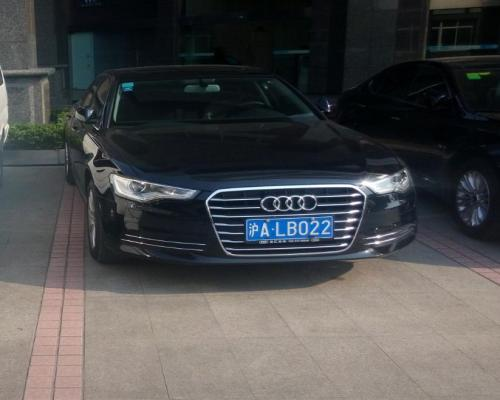Carplate: (240, 212, 338, 249)
